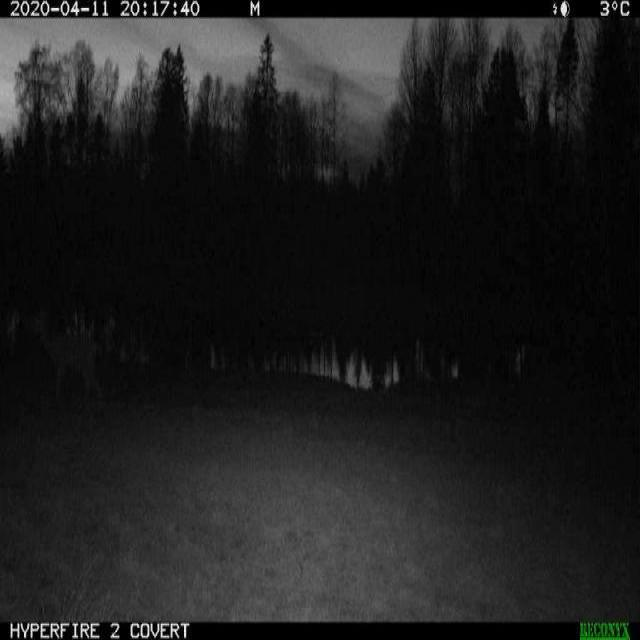deer: (57, 296, 151, 435)
